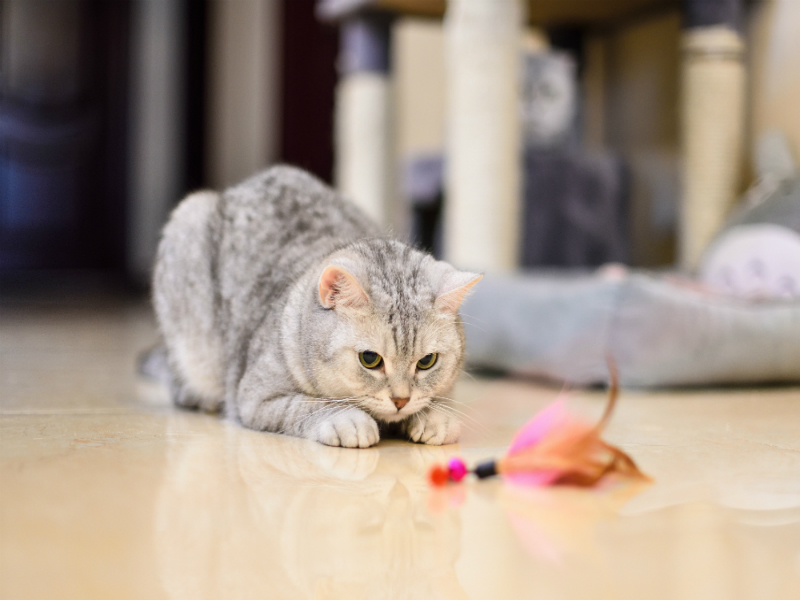cat: (147, 169, 482, 446)
